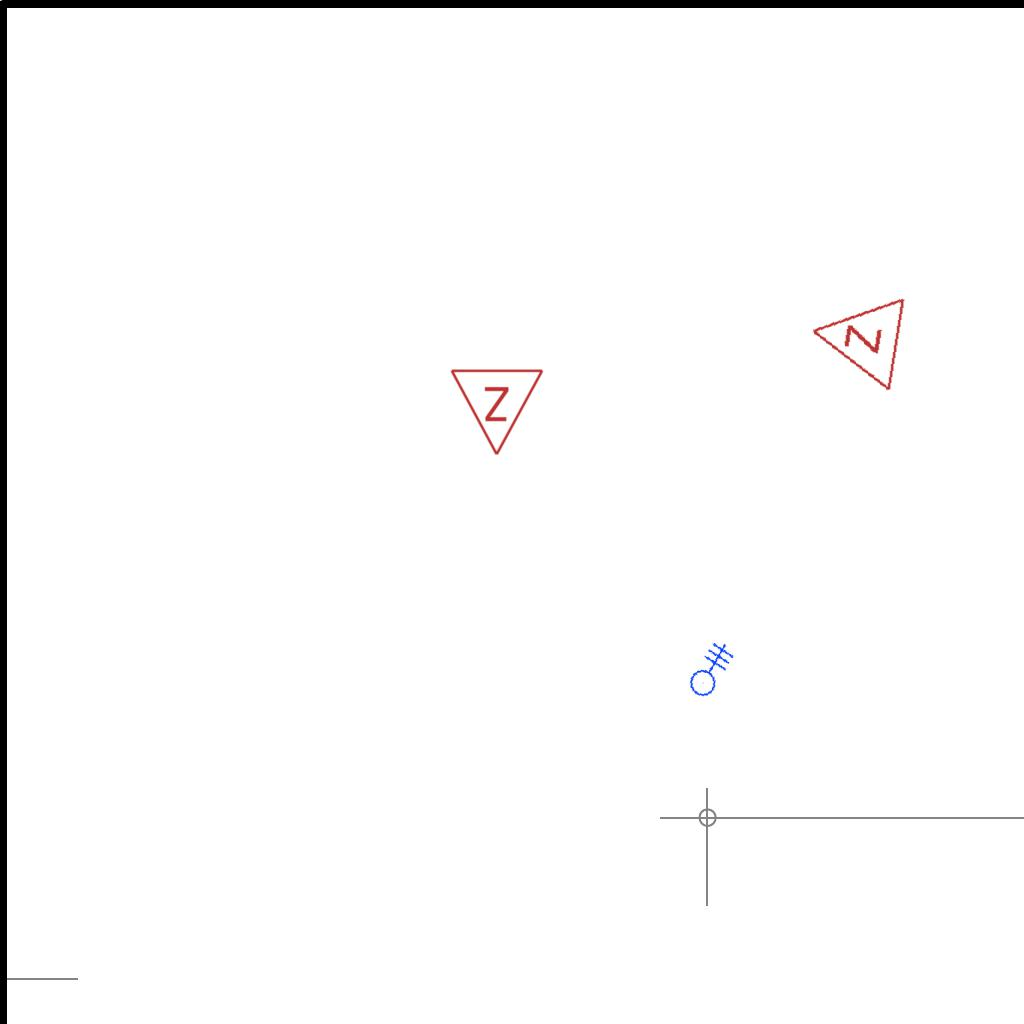Elektroanschluss_allgemein_400V_Geraeteanschlussdose_400V: (672, 632, 742, 702)
Zimmersignalleuchte: (797, 282, 913, 396), (449, 362, 547, 462)
